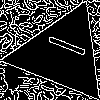I: (37, 28, 88, 59)
